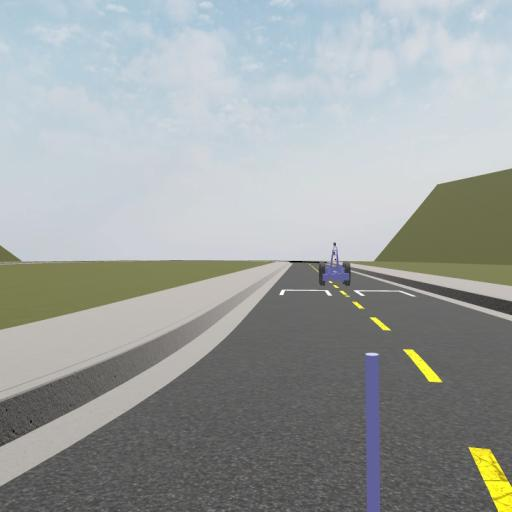ERP-42: (320, 244, 352, 285)
